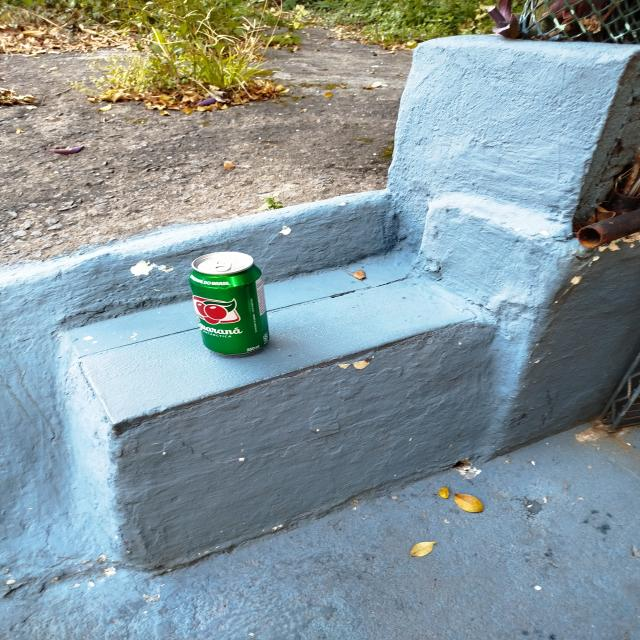Guarana: (188, 252, 270, 356)
